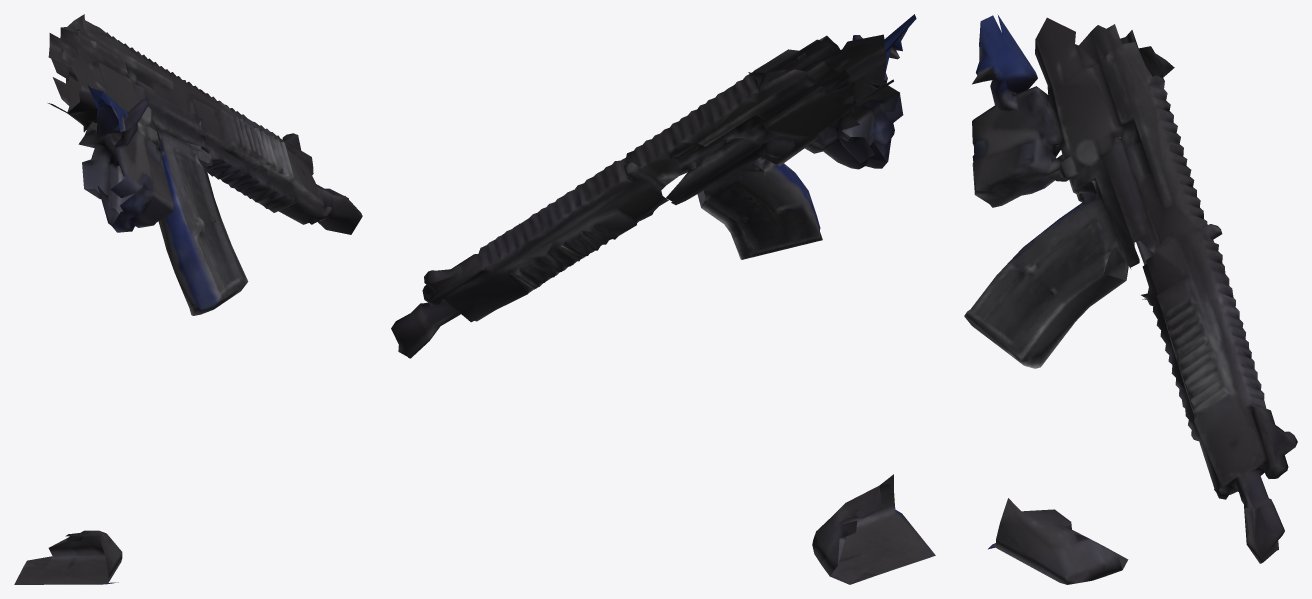
Rendered from blue_rifle.glb.
The picture shows the model from 3 angles, left to right: view 1: azimuth 30°, elevation 25°; view 2: azimuth 150°, elevation 25°; view 3: azimuth 270°, elevation 25°; orthographic projection. The views are drawn at different scales.
Visible parts, largest first — view 1: blue_rifle; view 2: blue_rifle; view 3: blue_rifle.
Boxes of the visible parts, left/top/right/bottom form: blue_rifle: left=14, top=14, right=362, bottom=584; blue_rifle: left=391, top=14, right=935, bottom=584; blue_rifle: left=964, top=14, right=1297, bottom=584.
Size of the model in its own units: 2.52 by 2.9 by 1.58.
1 material, 1 textured.
